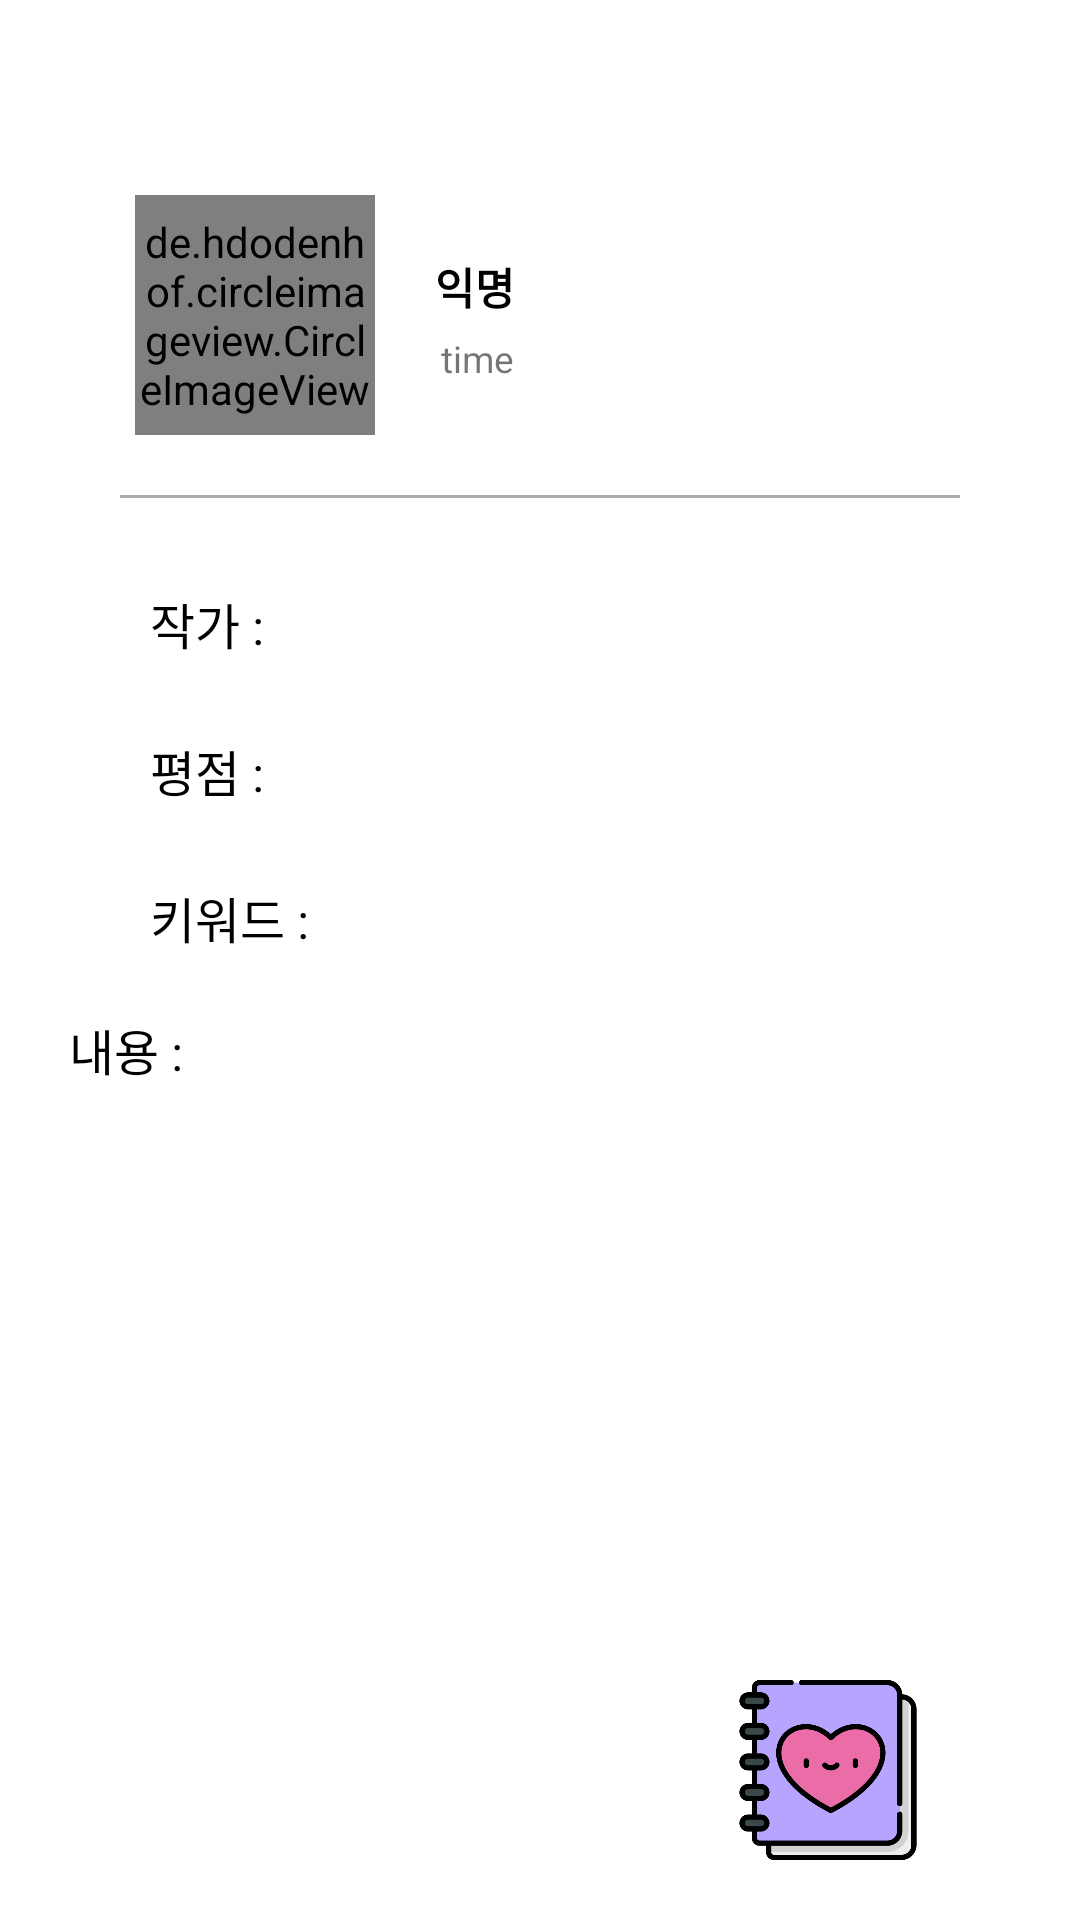

Named icons in this screenshot (1080x1920) and their centers, (x,y):
notebook: (828,1770)
